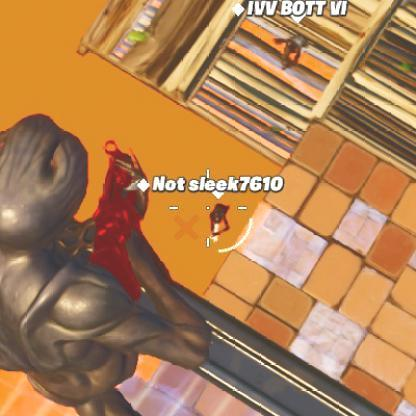person: (278, 39, 306, 66), (208, 208, 230, 232)
